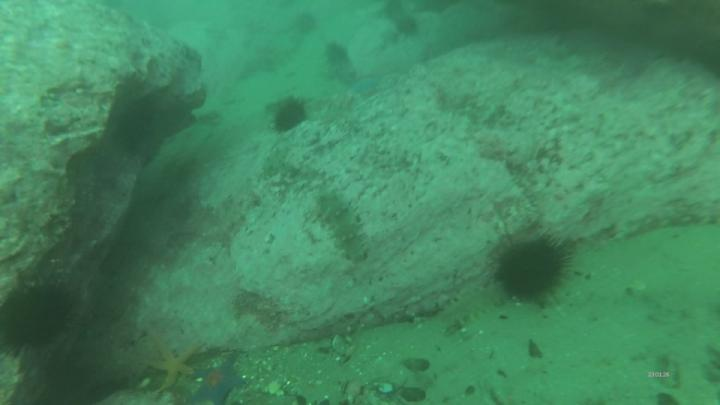echinus: (501, 243, 561, 299), (8, 297, 68, 353), (276, 101, 307, 134), (323, 42, 351, 67)
holothurian: (316, 191, 369, 264), (436, 284, 507, 332)
starfish: (147, 344, 195, 390), (197, 361, 241, 405), (349, 77, 377, 94)
